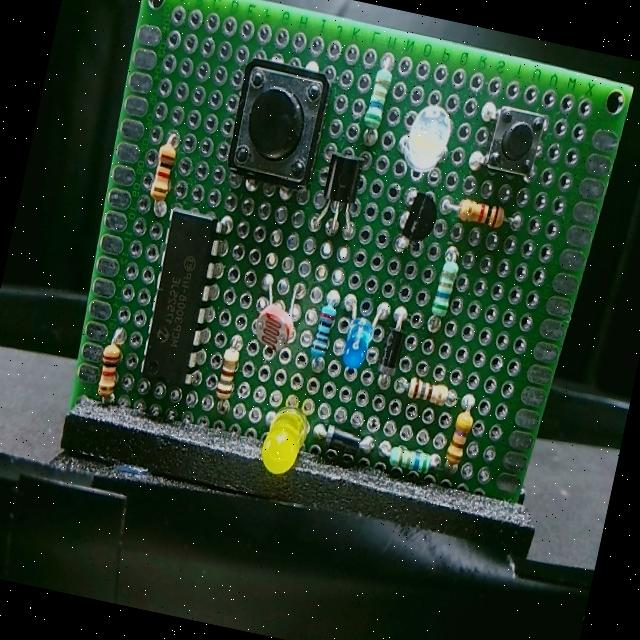IC: (132, 204, 232, 398)
cds: (249, 296, 299, 354)
diode: (372, 309, 413, 383), (316, 422, 378, 462)
led: (392, 96, 459, 180), (252, 396, 316, 480), (334, 306, 382, 370)
resistor: (352, 55, 399, 138), (140, 132, 182, 211), (303, 296, 340, 366), (426, 250, 462, 319), (382, 439, 438, 483), (444, 401, 479, 468), (208, 343, 243, 408), (401, 370, 456, 410), (452, 193, 511, 230), (91, 340, 123, 408)
switch: (222, 55, 334, 188), (478, 100, 552, 176)
transistor: (312, 149, 369, 231), (398, 186, 442, 247)
